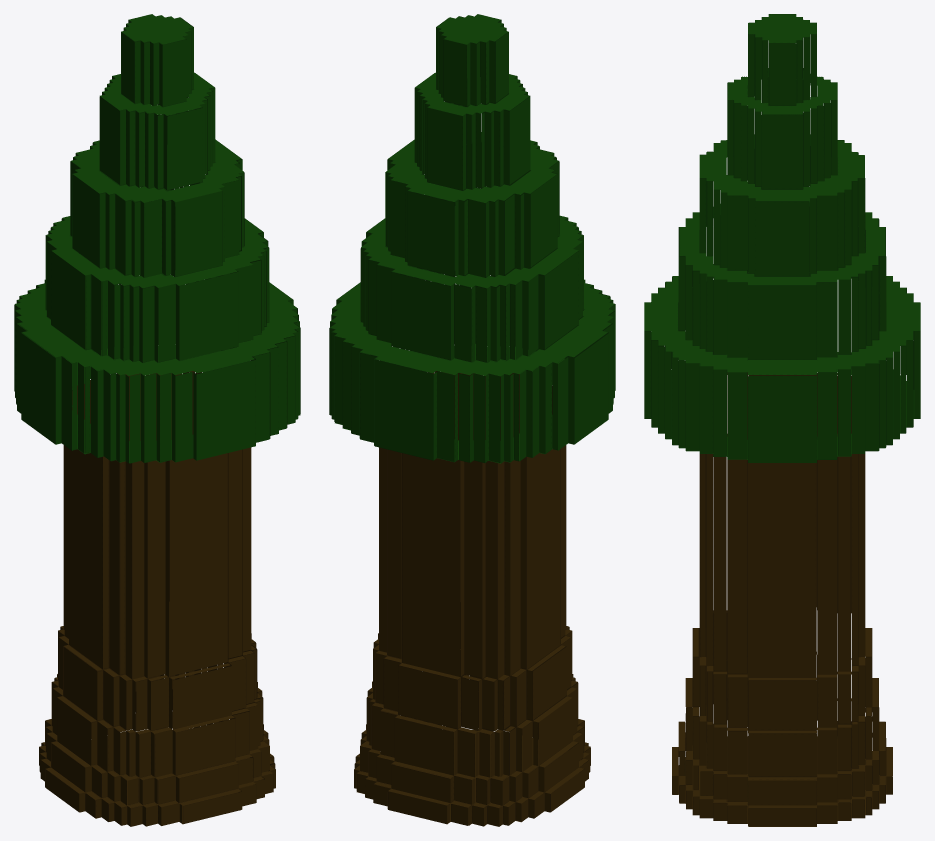
File: Tree.fbx
3 views of the same model, side by side, from view 1: azimuth 30°, elevation 25°; view 2: azimuth 150°, elevation 25°; view 3: azimuth 270°, elevation 25° (orthographic).
Parts seen in each view (by area): view 1: Tree; view 2: Tree; view 3: Tree.
Part boxes in pixels (box(x1,y1,x2,y2)): Tree: box(14, 14, 300, 826); Tree: box(329, 14, 615, 826); Tree: box(644, 14, 920, 826).
Size of the model in its own units: 400 by 400 by 1200.
